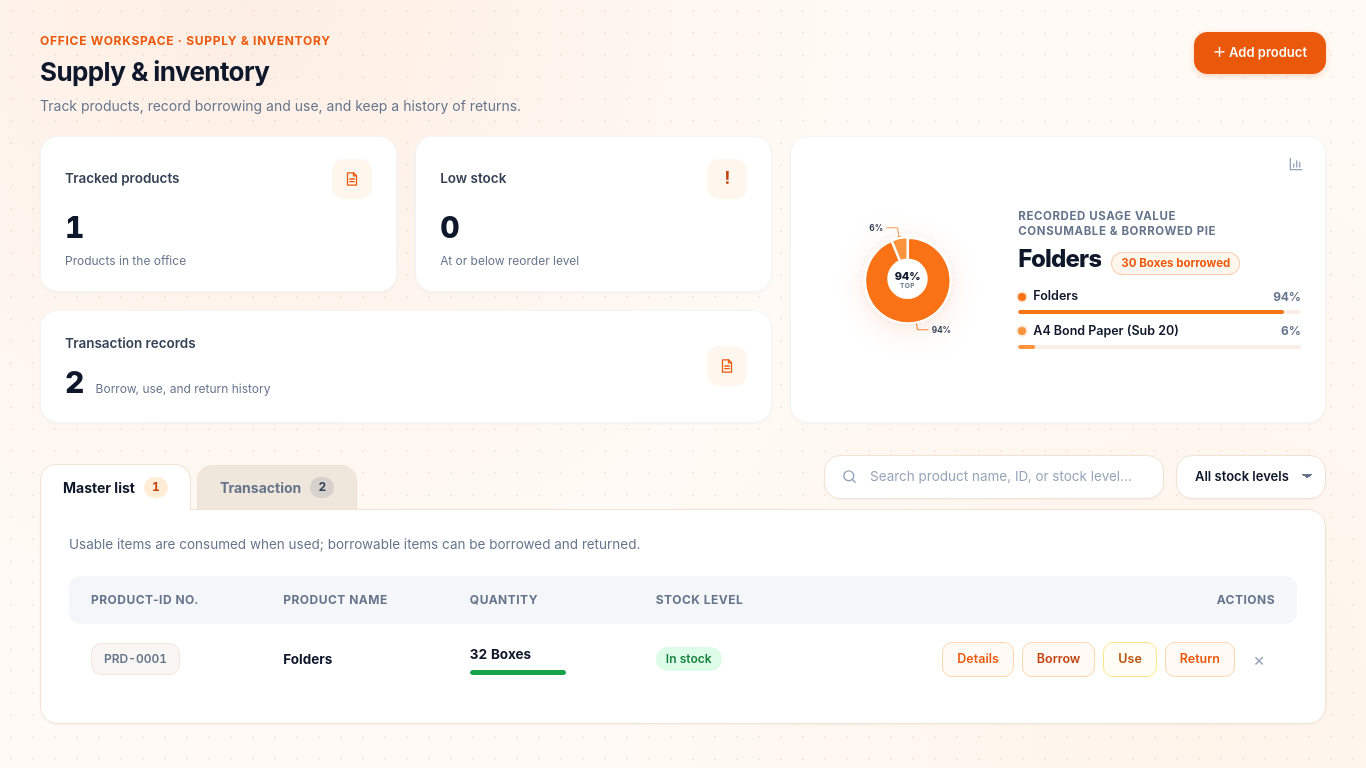
Test: renders bento metrics and switches between Master list and Transaction folder tabs
Expected: the heading "Supply & inventory" is shown, [40,56,269,87]
Expected: the text "Tracked products" is shown, [65,168,180,189]
Note: Switch to Transaction tab
Click the tab "Transaction 2" at (277, 486), box [197,464,357,508]
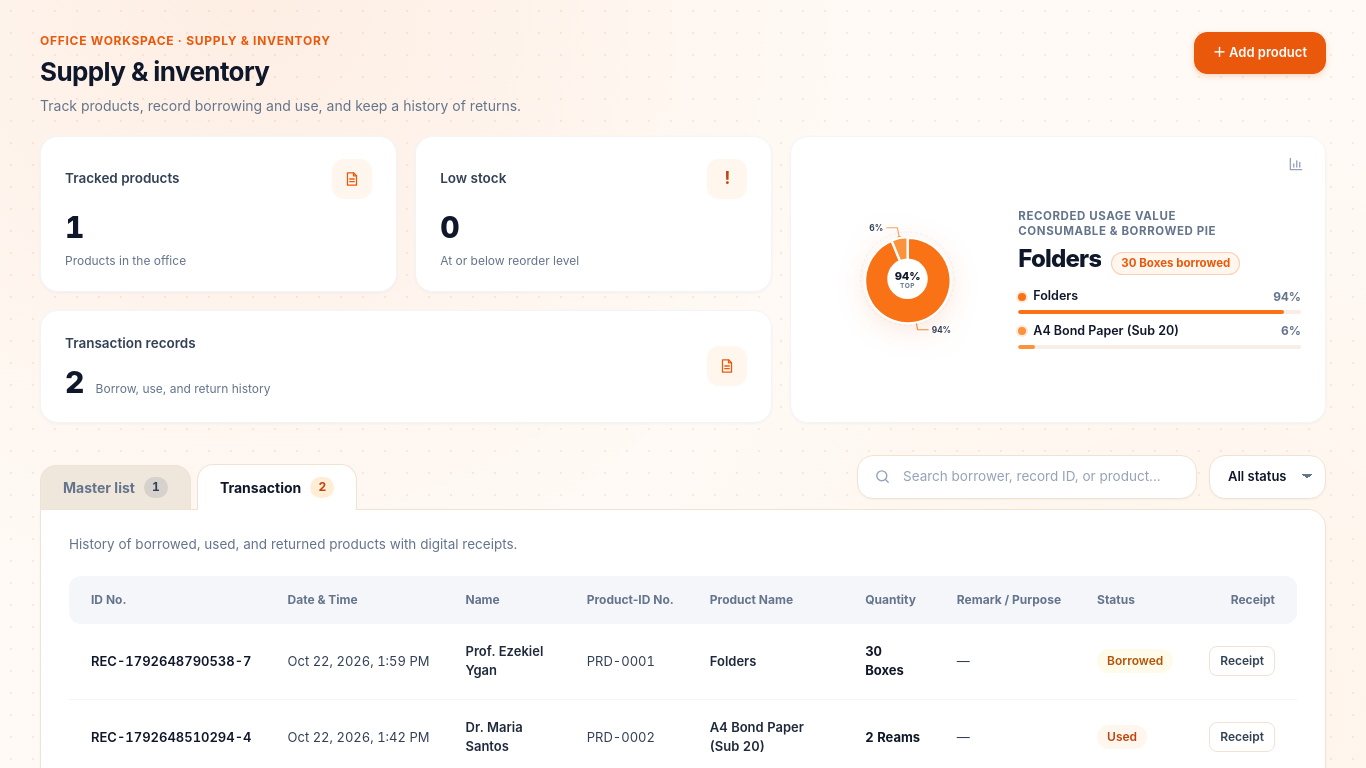
Expected: the search field with placeholder "Search borrower, record ID, or product..." is shown, [901,465,1180,488]
Expected: the text "REC-1792648790538-7" is shown, [91,652,252,671]
Expected: the text "Prof. Ezekiel Ygan" is shown, [448,624,569,700]
Note: Filter transaction records by status
Select "Used" in the dropdown named "filter status" at (1268, 476), box [1209,454,1326,498]
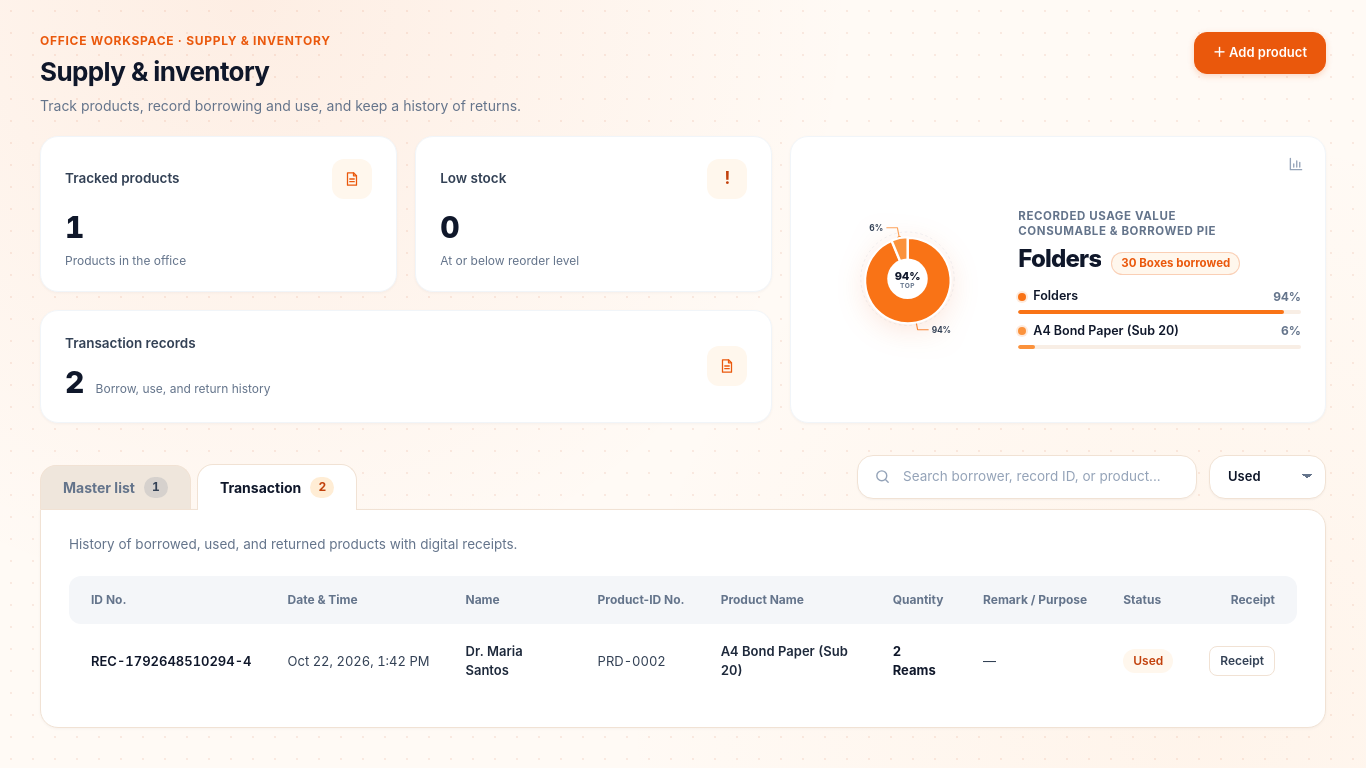
Expected: the text "Dr. Maria Santos" is shown, [448,624,580,699]
Expected: the text "REC-1792648790538-7" is gone
